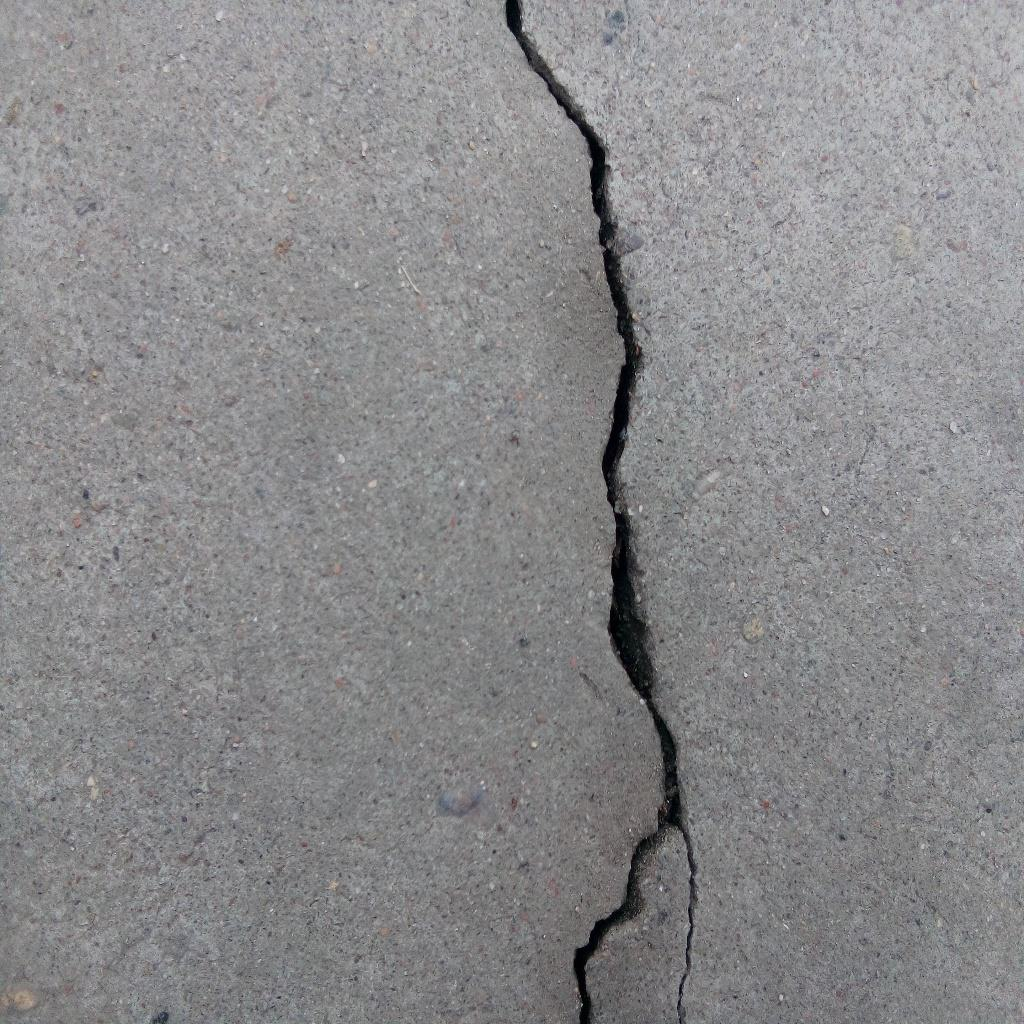Crack: (501, 1, 685, 1024), (677, 827, 699, 1024)
